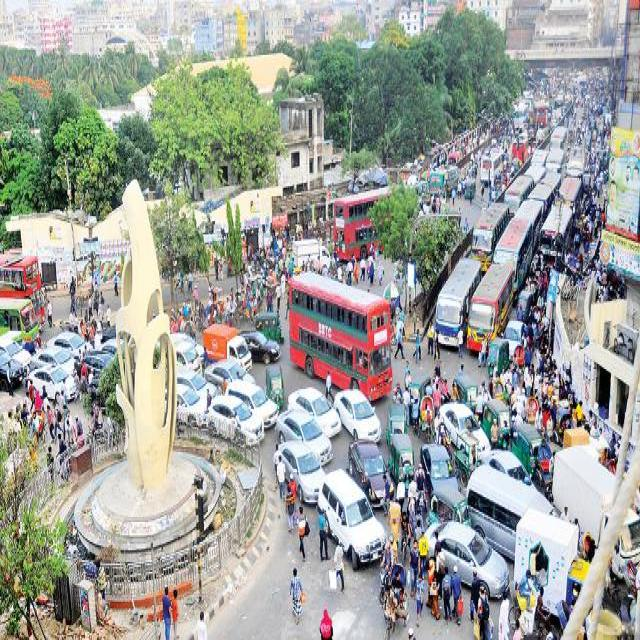Bus: (286, 270, 393, 402), (331, 185, 392, 262)
Car: (204, 384, 267, 441)
MiniBus: (462, 466, 562, 544)
